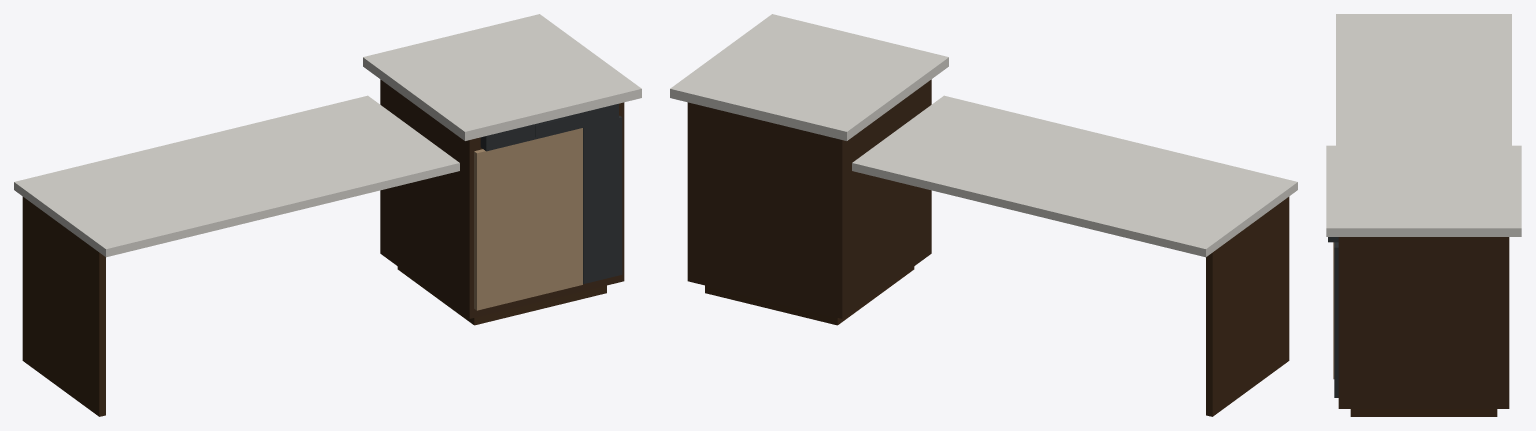
File: 岛台（旧版）-lite.glb
3 views of the same model, side by side, from view 1: azimuth 30°, elevation 25°; view 2: azimuth 150°, elevation 25°; view 3: azimuth 270°, elevation 25° (orthographic). The views are drawn at different scales.
Visible parts, largest first — view 1: material-1-top, material-2-door, material-0-body, material-5-leg, material-3-metal, material-4-base; view 2: material-1-top, material-0-body, material-5-leg, material-4-base; view 3: material-1-top, material-0-body, material-4-base, material-3-metal, material-2-door.
Part boxes in pixels (left/top/right/bottom): material-1-top: left=14, top=14, right=641, bottom=257; material-2-door: left=474, top=128, right=582, bottom=310; material-0-body: left=380, top=79, right=624, bottom=318; material-5-leg: left=22, top=196, right=105, bottom=416; material-3-metal: left=480, top=103, right=622, bottom=283; material-4-base: left=397, top=266, right=606, bottom=325; material-1-top: left=670, top=14, right=1297, bottom=257; material-0-body: left=687, top=79, right=931, bottom=318; material-5-leg: left=1206, top=196, right=1289, bottom=416; material-4-base: left=705, top=266, right=914, bottom=325; material-1-top: left=1326, top=14, right=1521, bottom=236; material-0-body: left=1338, top=237, right=1509, bottom=408; material-4-base: left=1350, top=409, right=1497, bottom=416; material-3-metal: left=1328, top=237, right=1338, bottom=397; material-2-door: left=1333, top=242, right=1334, bottom=379.
Bounding box in the file's own units: 2.4 × 0.9 × 0.8.
